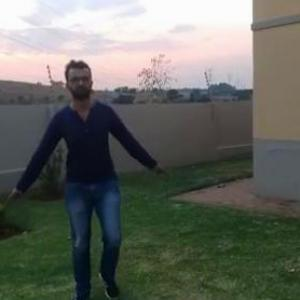land: (11, 62, 160, 292)
